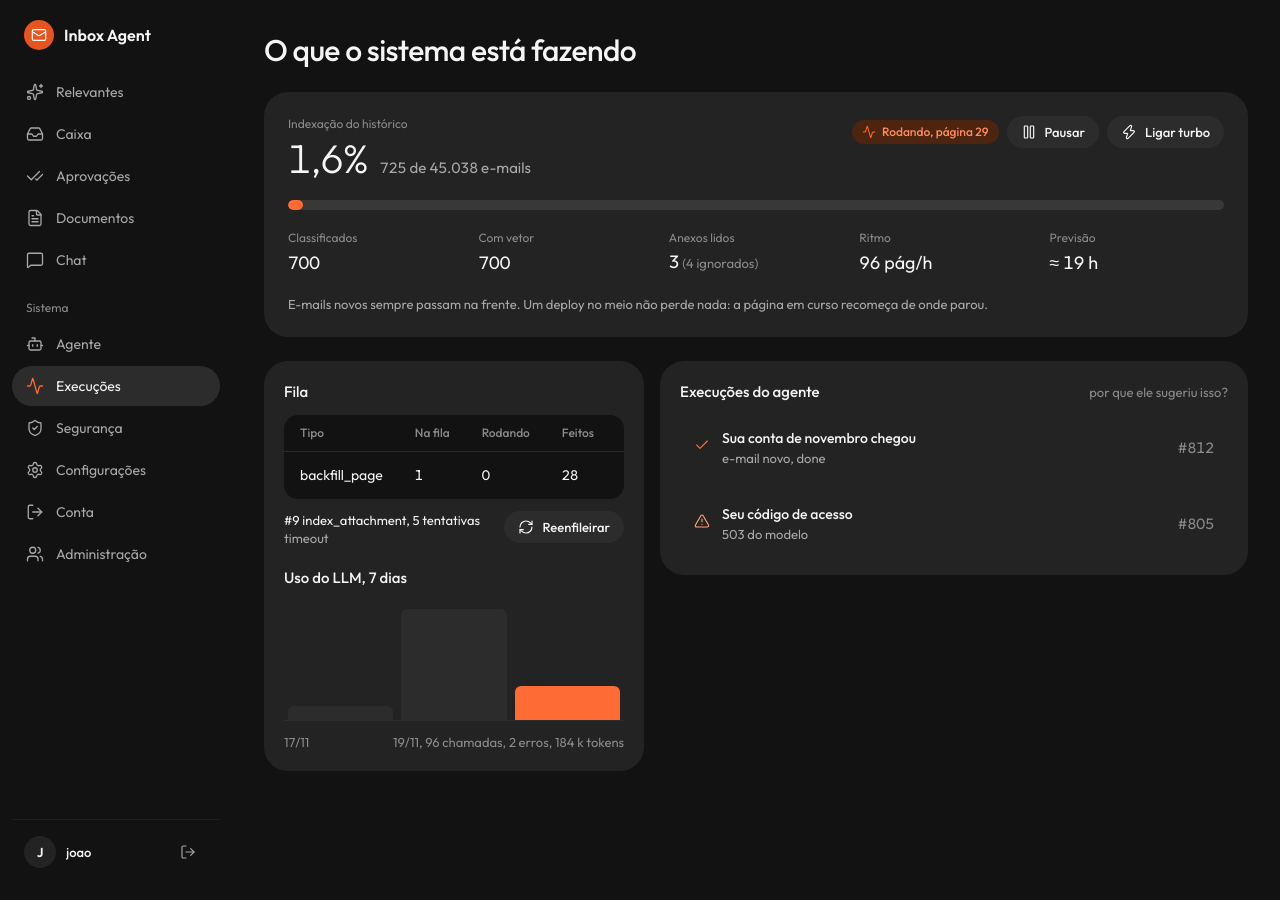
Test case: clicking_a_run_opens_its_steps_and_failed_runs_show_the_error
This screenshot has width=1280, height=900.
expect the text "503 do modelo" is shown: met, box [722, 526, 808, 542]
Click the button "Sua conta de novembro chegou e-mail novo, done #812": (819, 438) [680, 415, 1228, 479]
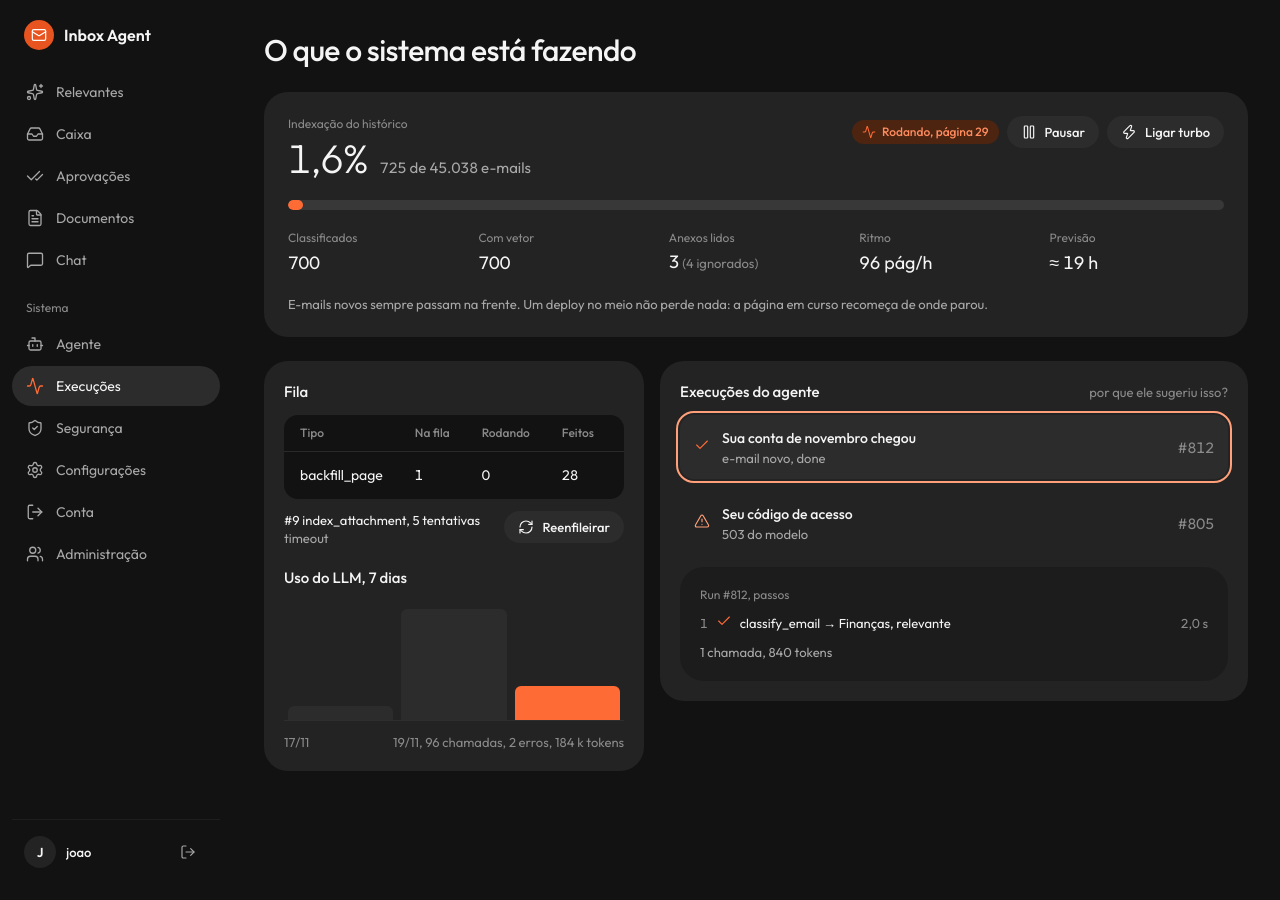
expect the element named "Passos do run #812" is shown: met, box [680, 567, 1228, 681]
